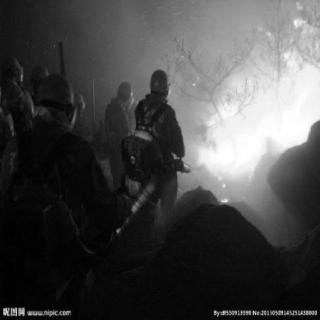Fire: (197, 27, 320, 191)
